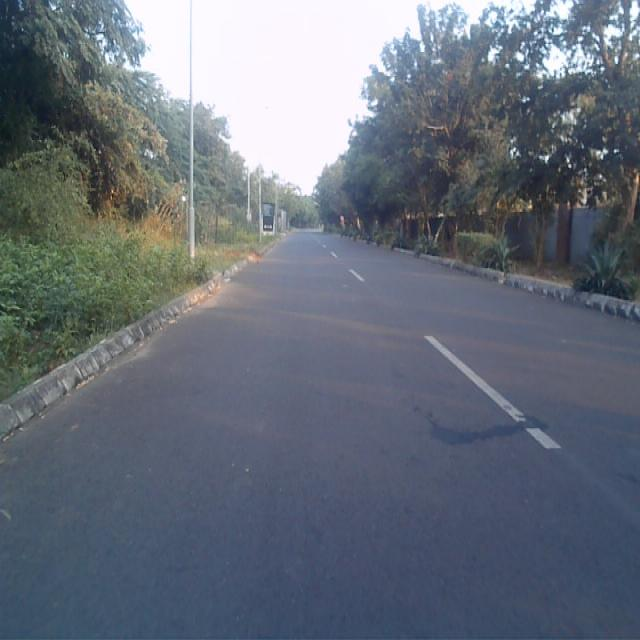lane: (0, 240, 640, 640)
